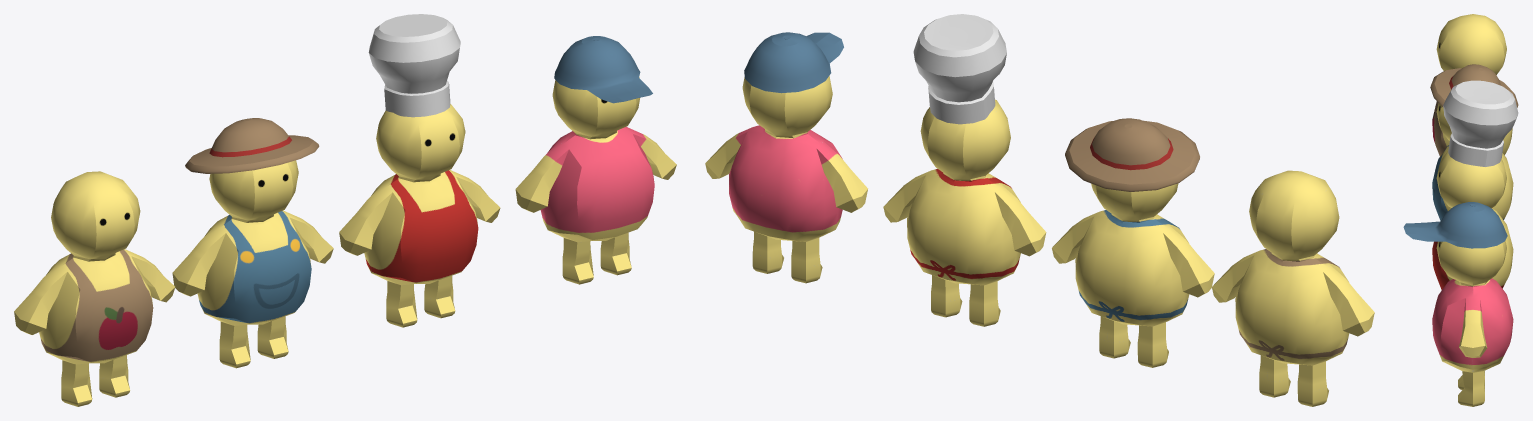
File: npc_pack 2.fbx
The picture shows the model from 3 angles, left to right: view 1: azimuth 30°, elevation 25°; view 2: azimuth 150°, elevation 25°; view 3: azimuth 270°, elevation 25°; orthographic projection. The views are drawn at different scales.
Visible parts, largest first — view 1: shopkeeper, Chef, Farmer, Person, Chef Hat, Farmer Hat, Cap; view 2: shopkeeper, Chef, Person, Farmer, Chef Hat, Farmer Hat, Cap; view 3: Person, Chef Hat, shopkeeper, Chef, Cap, Farmer Hat, Farmer.
Boxes of the visible parts, x1,y1,x2,y2 form: shopkeeper: [14, 171, 175, 406]; Chef: [339, 104, 500, 327]; Farmer: [172, 160, 333, 368]; Person: [515, 77, 676, 284]; Chef Hat: [368, 14, 460, 117]; Farmer Hat: [185, 118, 319, 173]; Cap: [554, 36, 652, 103]; shopkeeper: [1212, 170, 1374, 406]; Chef: [883, 99, 1046, 326]; Person: [705, 76, 867, 283]; Farmer: [1052, 183, 1214, 367]; Chef Hat: [913, 14, 1006, 124]; Farmer Hat: [1065, 118, 1199, 191]; Cap: [744, 32, 843, 93]; Person: [1432, 240, 1513, 406]; Chef Hat: [1443, 80, 1518, 166]; shopkeeper: [1432, 14, 1512, 156]; Chef: [1432, 150, 1513, 289]; Cap: [1403, 202, 1507, 248]; Farmer Hat: [1430, 64, 1518, 107]; Farmer: [1432, 103, 1513, 220].
Size of the model in its own units: 889 by 379 by 167.
Materials: 7 (5 with a texture image).
